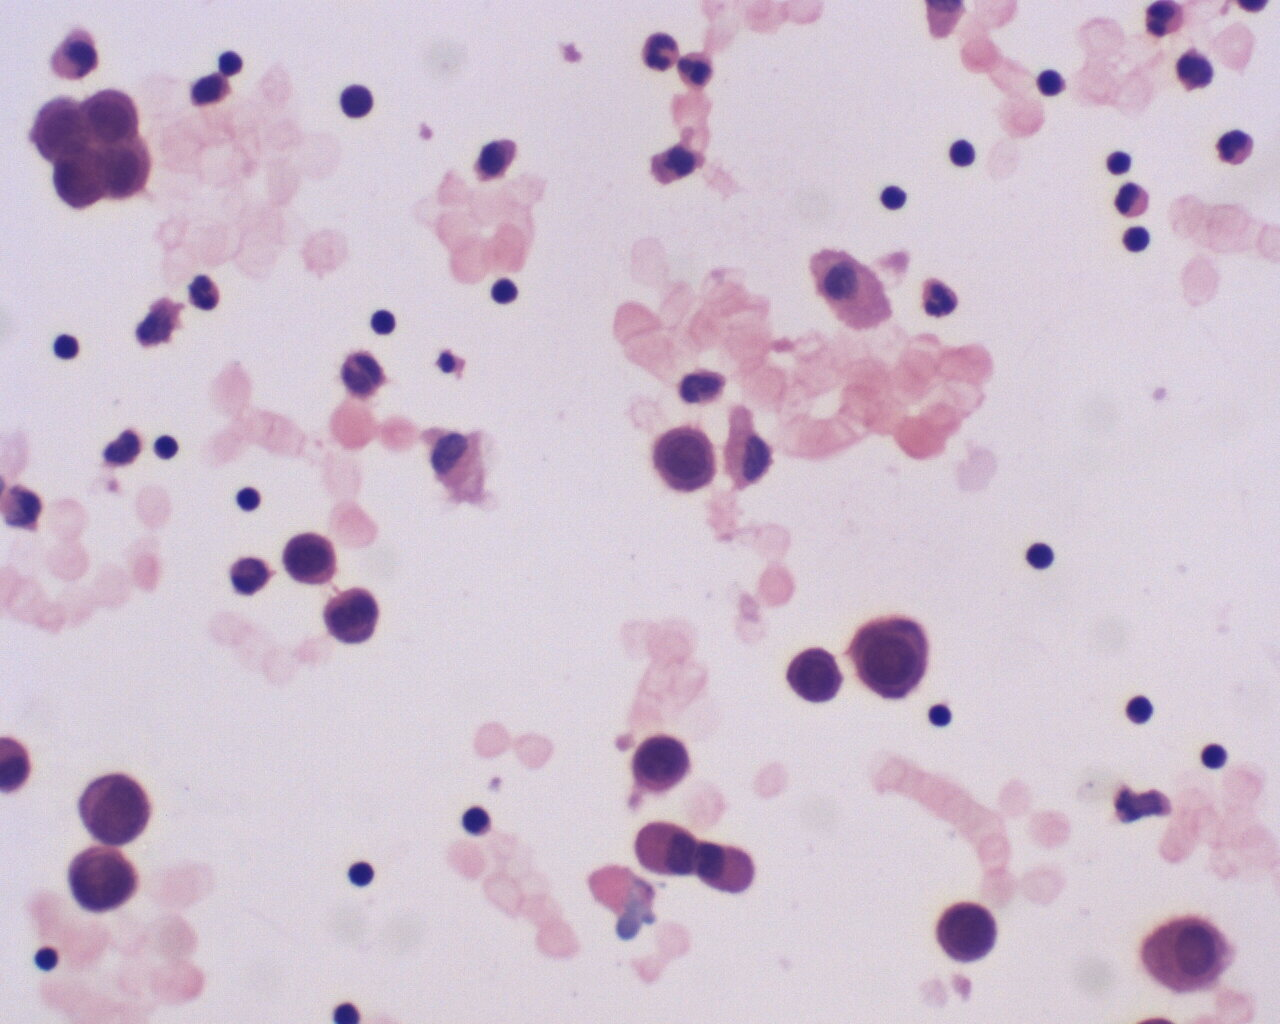ab: (30, 89, 152, 214), (851, 615, 940, 706), (641, 420, 726, 495), (77, 772, 154, 847), (67, 845, 145, 916), (928, 897, 1001, 969), (786, 639, 850, 712), (629, 729, 696, 793)
lymph: (478, 267, 525, 315), (1114, 686, 1158, 735), (941, 131, 982, 178), (366, 302, 406, 344), (48, 330, 90, 369), (344, 853, 382, 894), (233, 478, 272, 518), (1034, 62, 1072, 98)
neutro: (917, 269, 964, 325), (1211, 123, 1264, 172), (1108, 177, 1161, 219), (641, 29, 681, 76), (186, 269, 227, 315), (1144, 1, 1190, 41)
